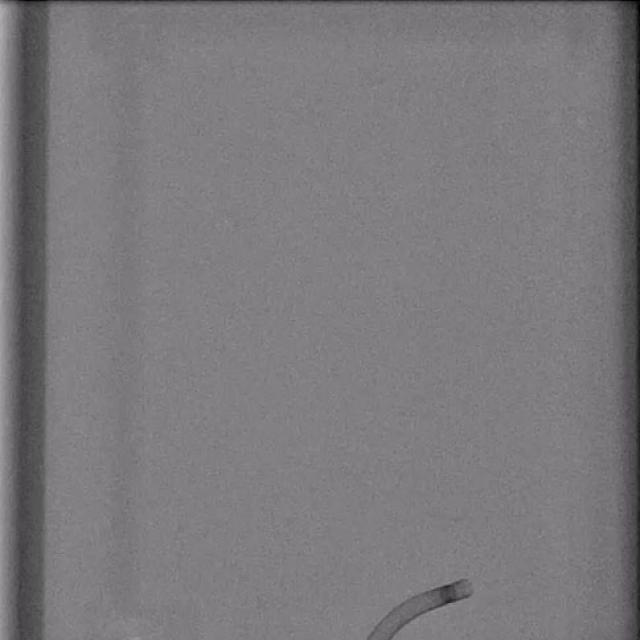entry: (368, 636, 390, 640)
marker: (439, 584, 458, 603)
tip: (464, 580, 474, 596)
